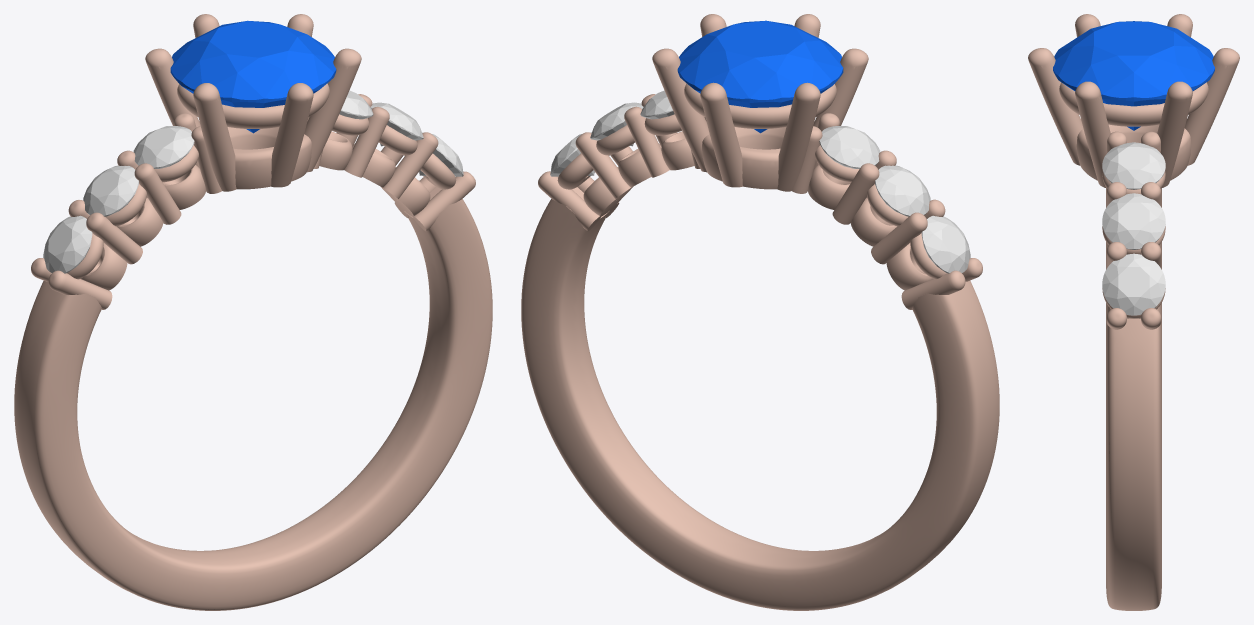
The model's file is bluesapphire-round-rosegold-6prong-straightband-3stone.glb.
The picture shows the model from 3 angles, left to right: view 1: azimuth 30°, elevation 25°; view 2: azimuth 150°, elevation 25°; view 3: azimuth 270°, elevation 25°; orthographic projection. The views are drawn at different scales.
Visible parts, largest first — view 1: metal, stone, side.002, side.001, side, side.004, side.003; view 2: metal, stone, side.002, side.001, side, side.004, side.003; view 3: metal, stone, side.005, side.004, side.003.
Part boxes in pixels (x1,y1,x2,y2): metal: [14, 14, 492, 610]; stone: [170, 20, 336, 133]; side.002: [43, 215, 92, 273]; side.001: [83, 165, 138, 216]; side: [133, 126, 194, 168]; side.004: [370, 102, 423, 146]; side.003: [339, 90, 373, 119]; metal: [521, 14, 999, 610]; stone: [677, 20, 843, 133]; side.002: [921, 215, 970, 273]; side.001: [875, 165, 930, 216]; side: [819, 126, 880, 168]; side.004: [590, 102, 643, 146]; side.003: [640, 90, 674, 119]; metal: [1028, 14, 1239, 610]; stone: [1053, 21, 1214, 130]; side.005: [1102, 253, 1165, 315]; side.004: [1102, 193, 1165, 249]; side.003: [1102, 142, 1165, 189].
Size of the model in its own units: 20.5 by 23.81 by 8.35.
